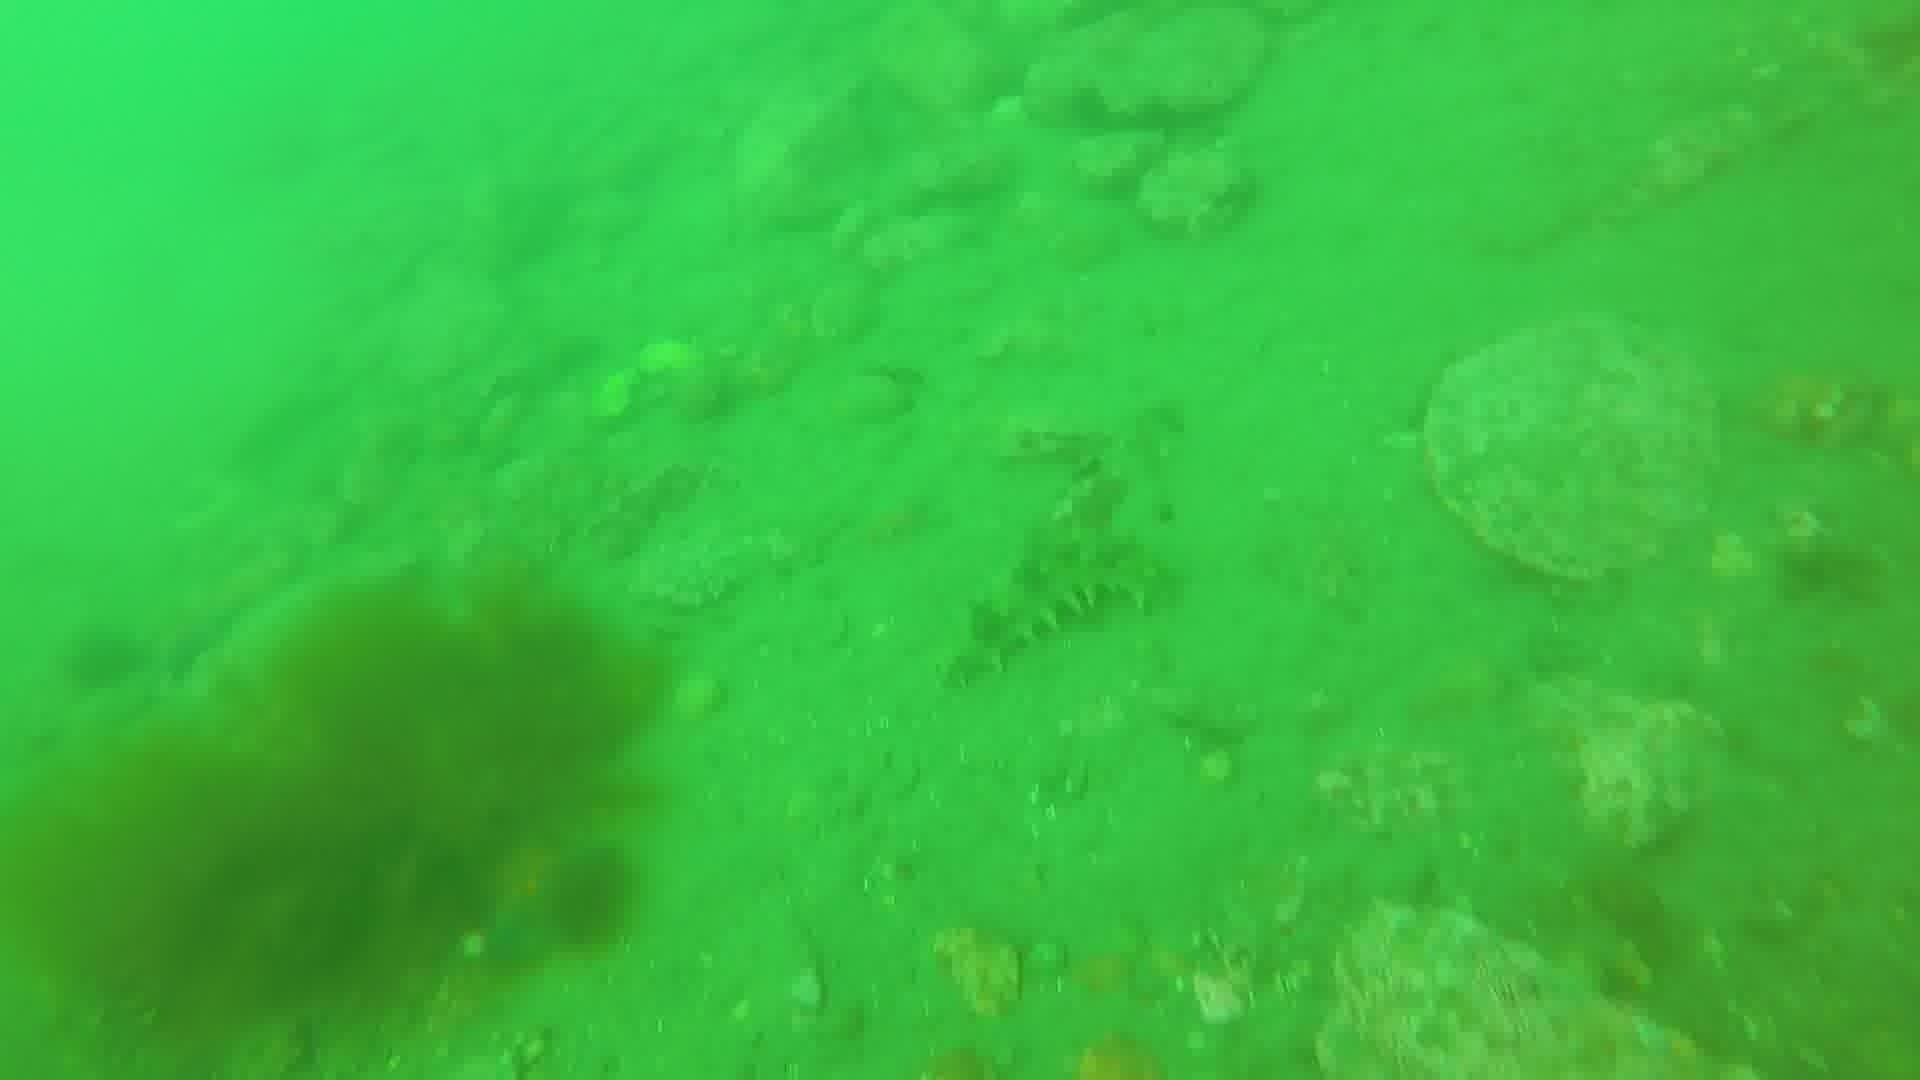holothurian: (934, 530, 1178, 688)
starfish: (465, 825, 628, 971)
